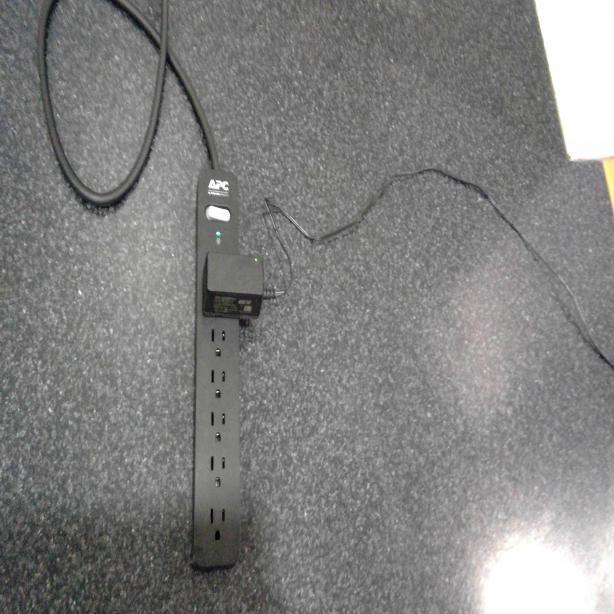typeb: (206, 502, 227, 548), (206, 449, 228, 491), (208, 367, 229, 405), (208, 411, 228, 446), (208, 326, 228, 359)
